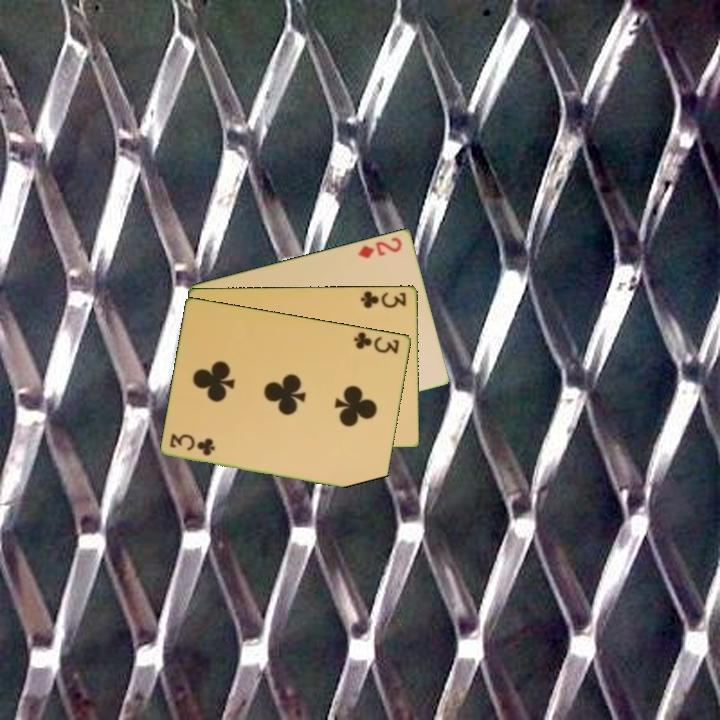2d: (354, 233, 405, 261)
3c: (350, 328, 402, 356), (166, 431, 218, 458), (357, 287, 409, 311)
